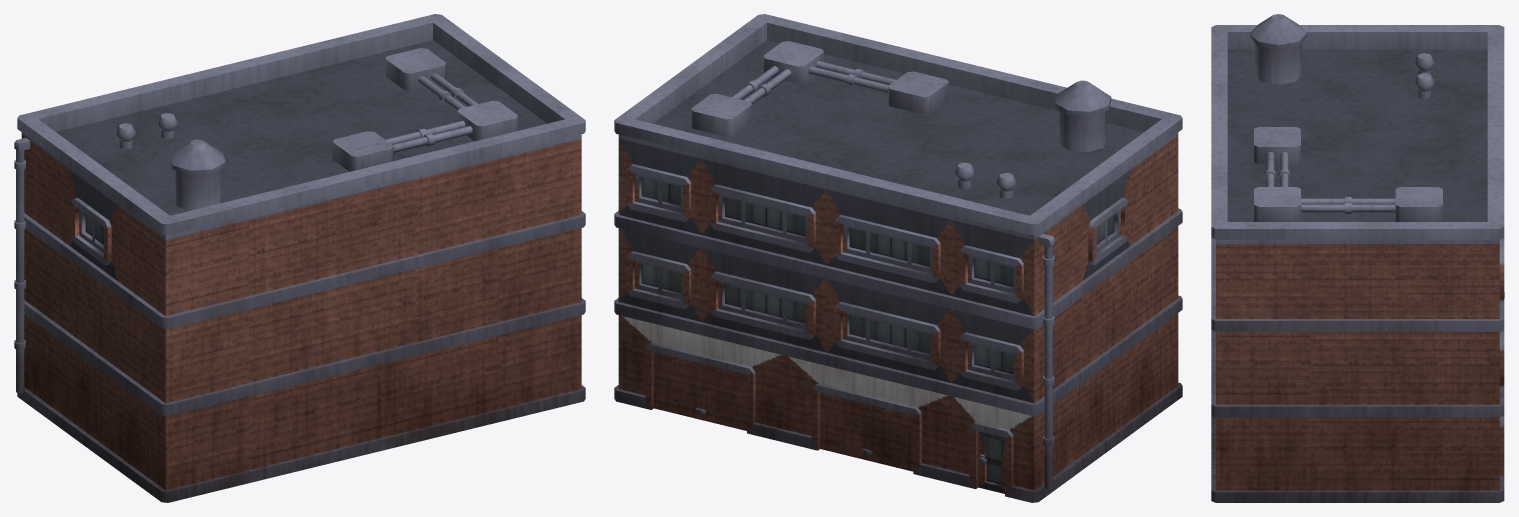
File: building-a-brown.glb
3 views of the same model, side by side, from view 1: azimuth 30°, elevation 25°; view 2: azimuth 150°, elevation 25°; view 3: azimuth 270°, elevation 25° (orthographic).
Visible parts, largest first — view 1: building-a; view 2: building-a; view 3: building-a.
Part boxes in pixels (x1,y1,x2,y2): building-a: (14,14,585,502); building-a: (614,14,1182,502); building-a: (1211,14,1504,502).
Bounding box in the file's own units: 2.08 × 1.47 × 1.24.
1 material, 1 textured.
